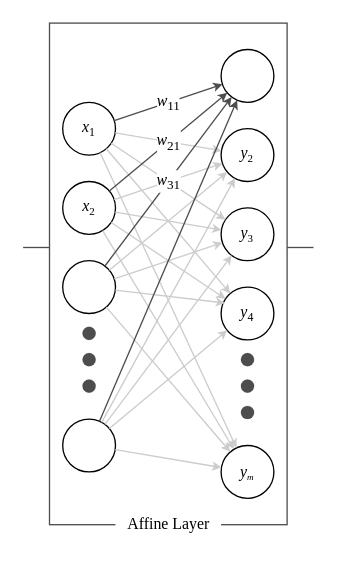
This 338x561 diagram has some shape labels left out. Each missing label, with the centre of its shape:
"x 3" goes at (88,286).
"x n" goes at (88,445).
"y 1" goes at (247,75).
